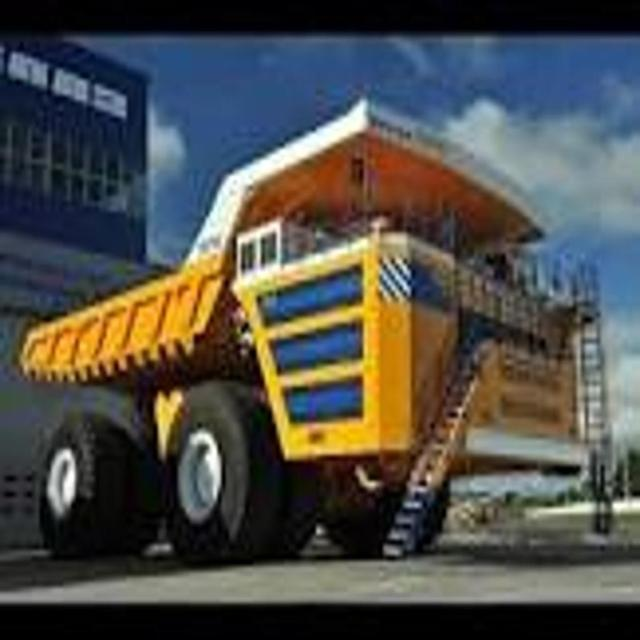dump_truck: (20, 96, 615, 584)
